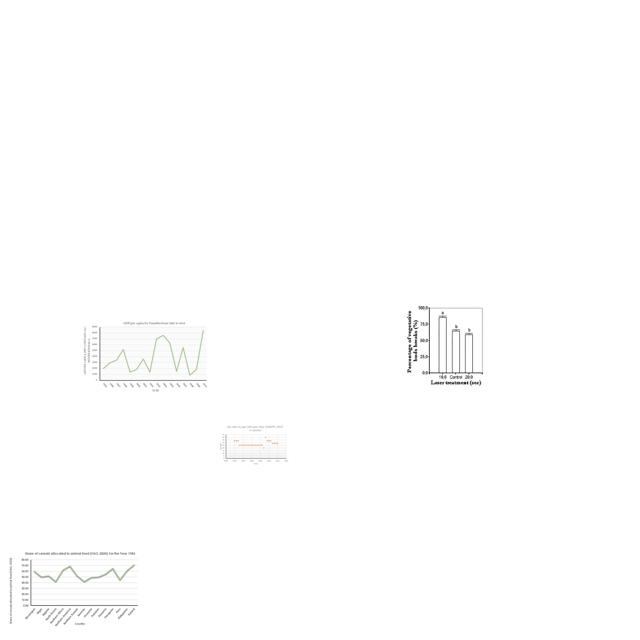Graph: (7, 551, 139, 629), (82, 320, 209, 393), (405, 306, 484, 388), (218, 424, 289, 466)
